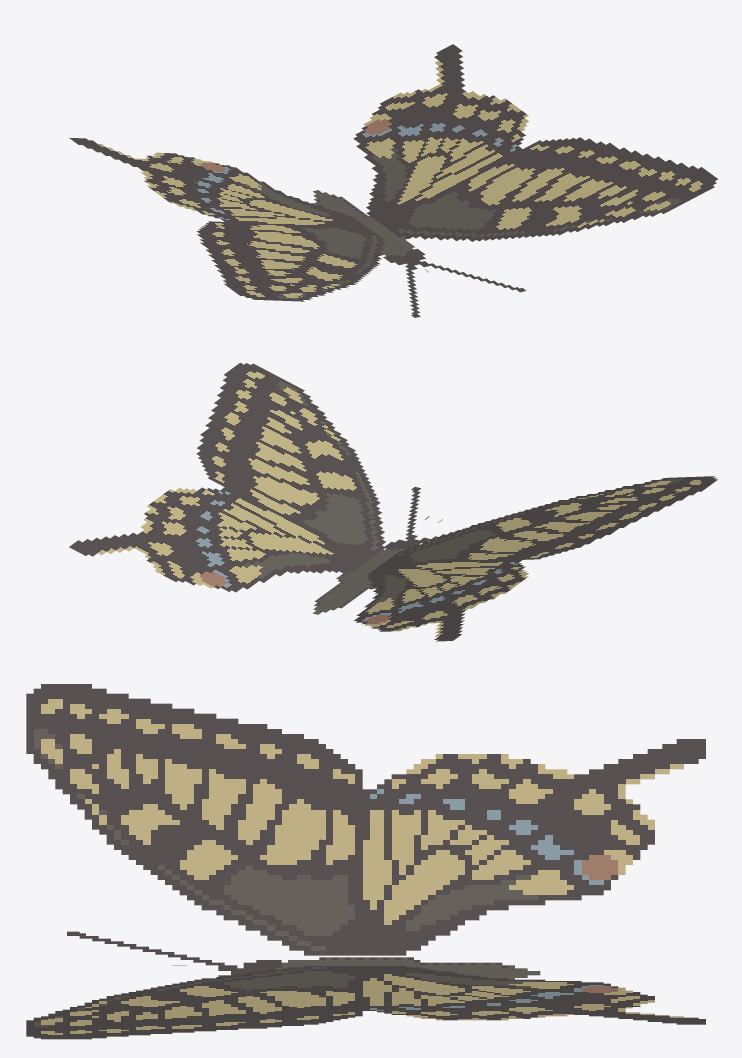
The model's file is 0403_Yellow_Swallowtail.glb.
The picture shows the model from 3 angles, top to bottom: view 1: azimuth 30°, elevation 25°; view 2: azimuth 150°, elevation 25°; view 3: azimuth 270°, elevation 25°; orthographic projection. The views are drawn at different scales.
Parts seen in each view (by area): view 1: part_0; view 2: part_0; view 3: part_0.
Boxes of the visible parts, box(x1,y1,x2,y2) form: part_0: box(69, 44, 717, 317); part_0: box(69, 362, 717, 641); part_0: box(26, 684, 705, 1039).
Bounding box in the file's own units: 0.0858 × 0.0137 × 0.0726.
Materials: 1 (1 with a texture image).
